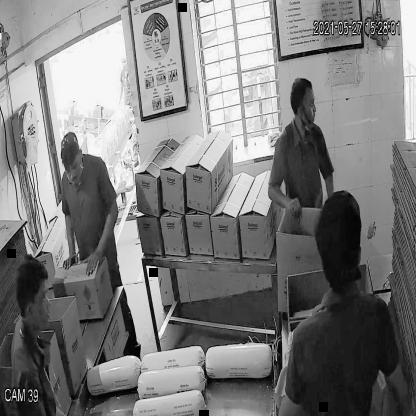no_goggles: (292, 98, 316, 116), (61, 159, 81, 177)
